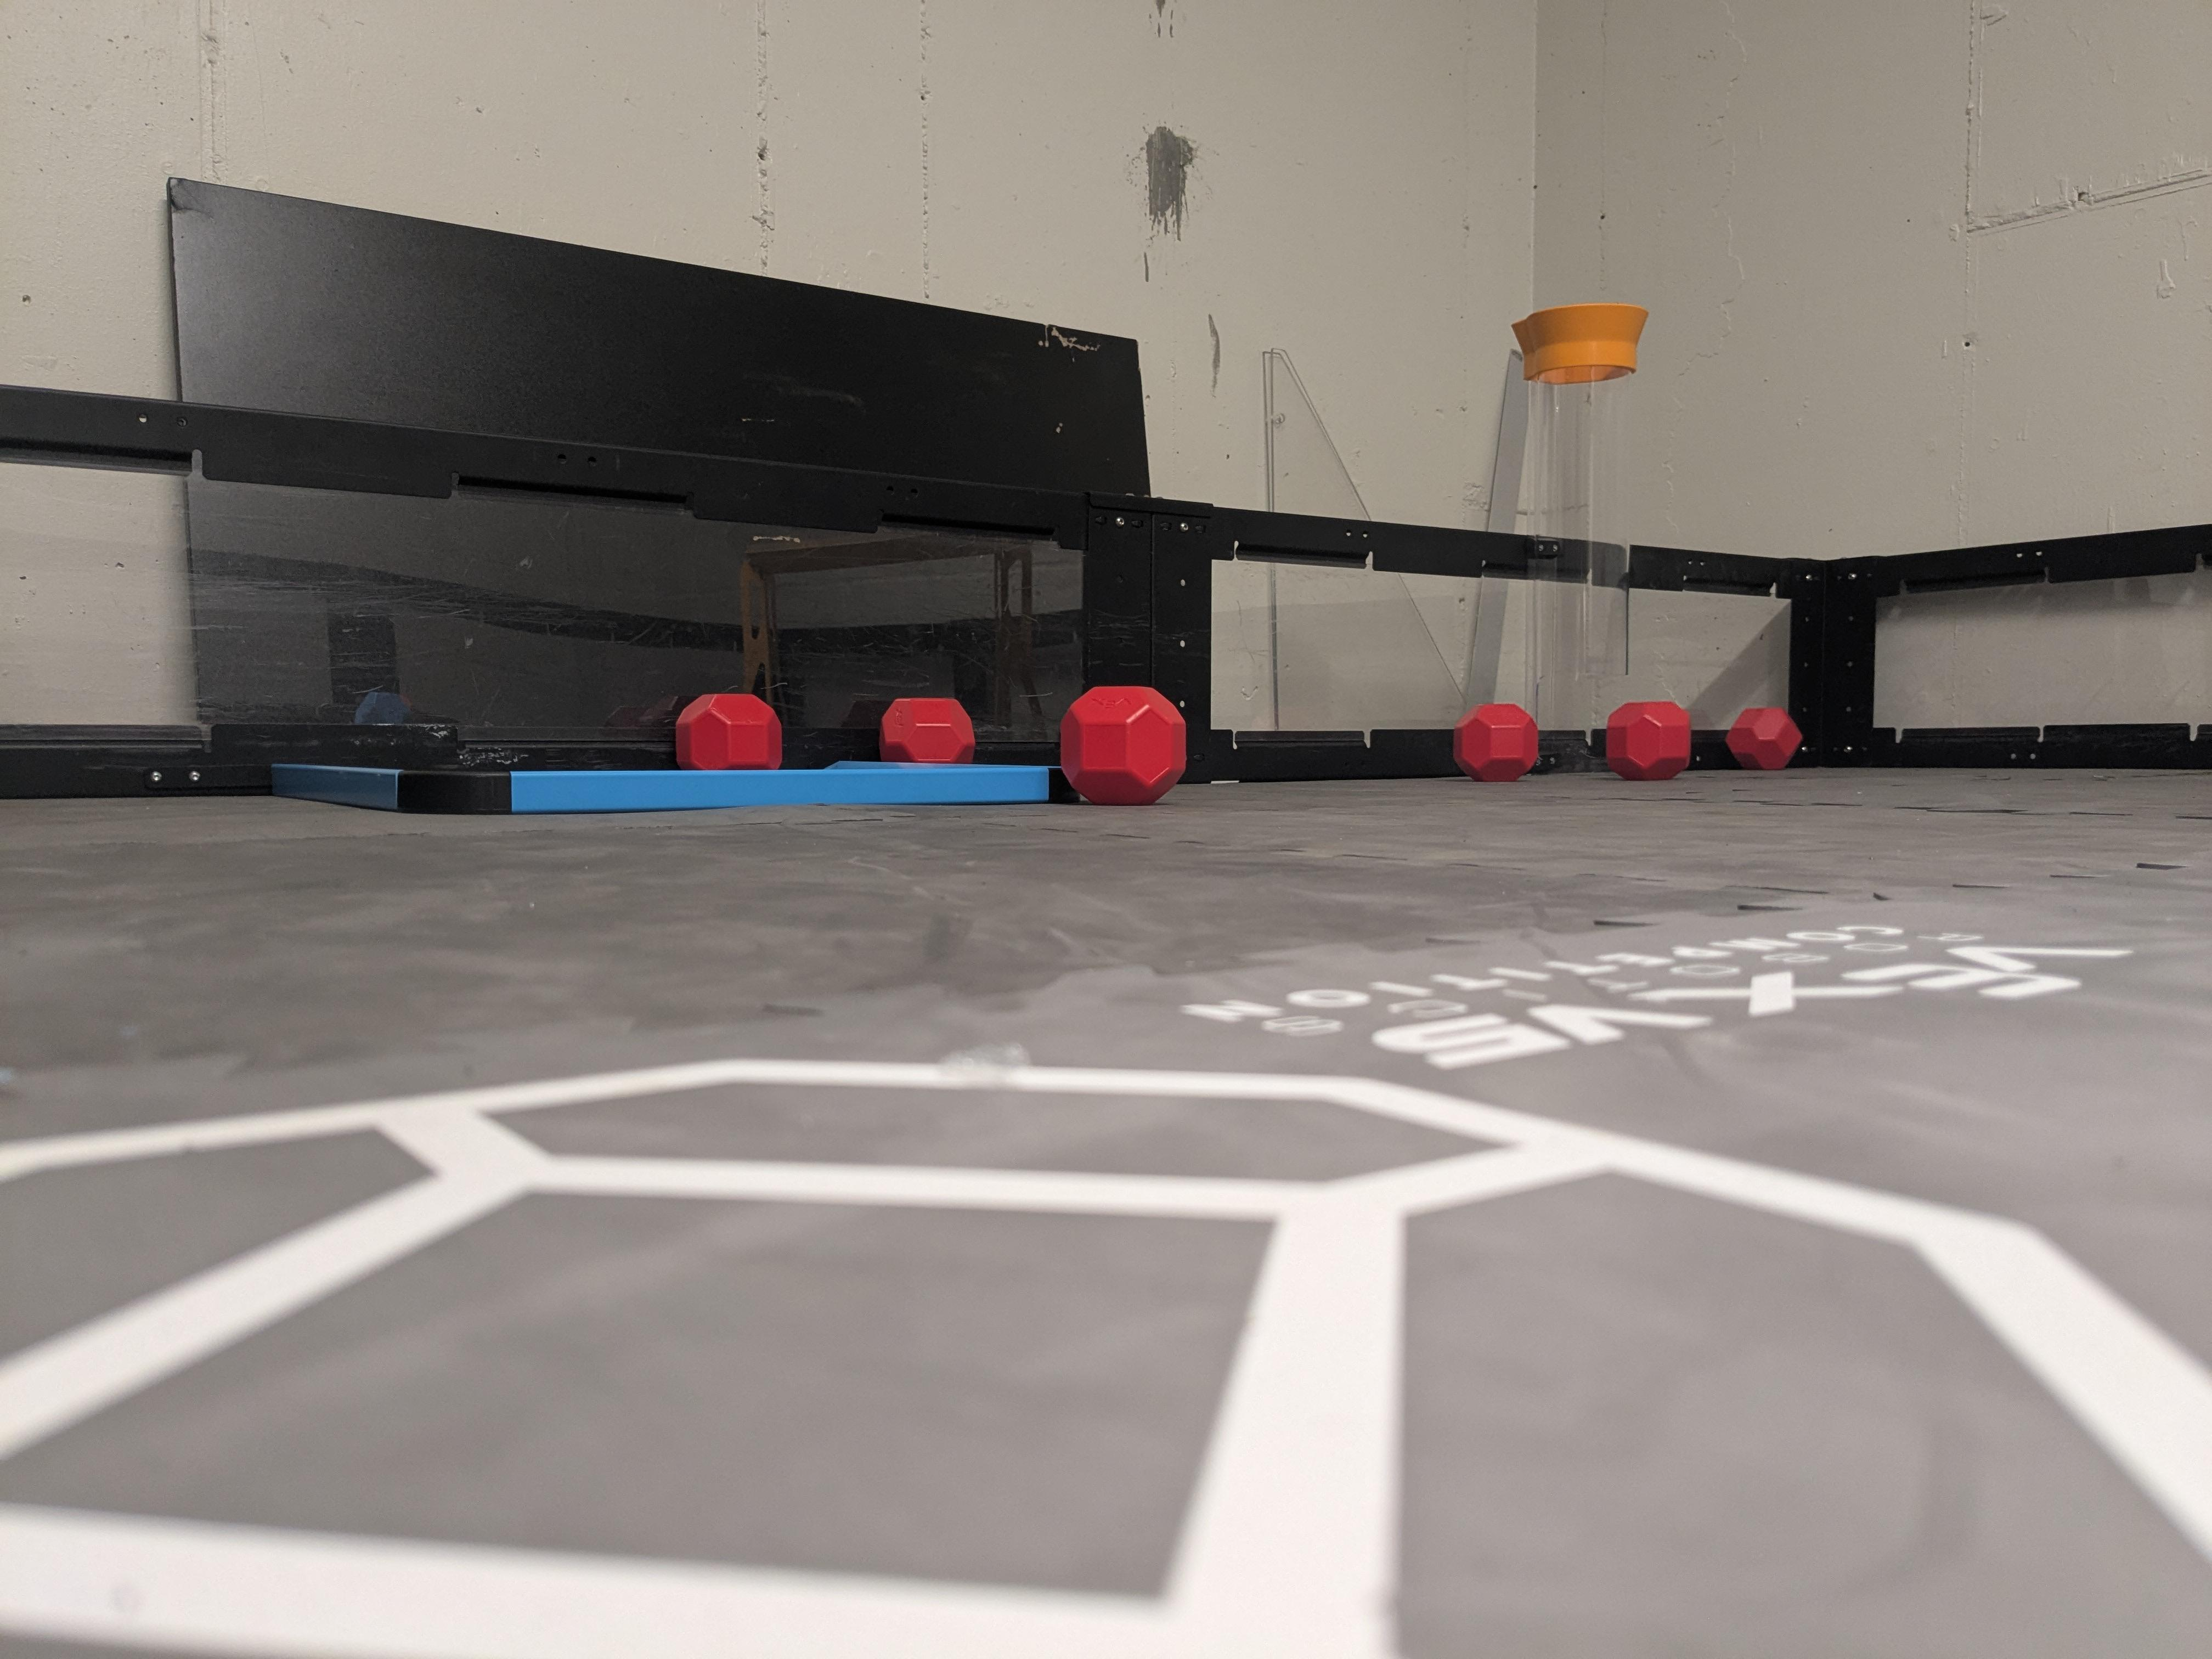Vex-Pieces-RED: (1061, 687, 1186, 803), (676, 694, 782, 770), (1606, 701, 1691, 781), (1454, 702, 1538, 781), (880, 699, 975, 763), (1726, 708, 1803, 770)
